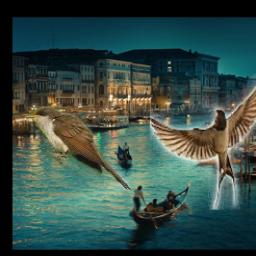Cuckoo: (27, 107, 131, 192)
Swallow: (151, 70, 256, 210)
